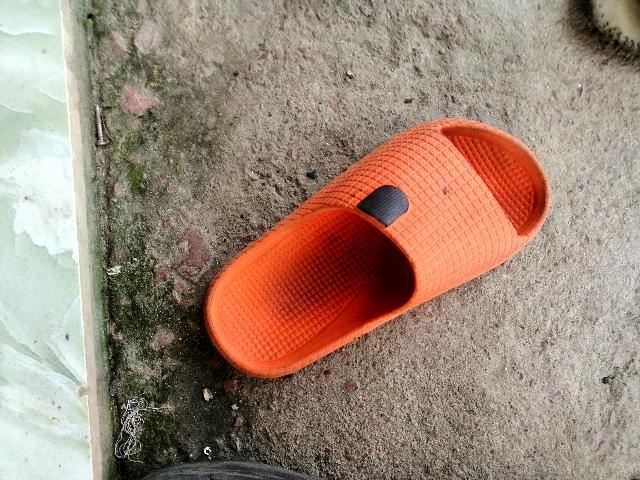sandal: (152, 73, 590, 419)
